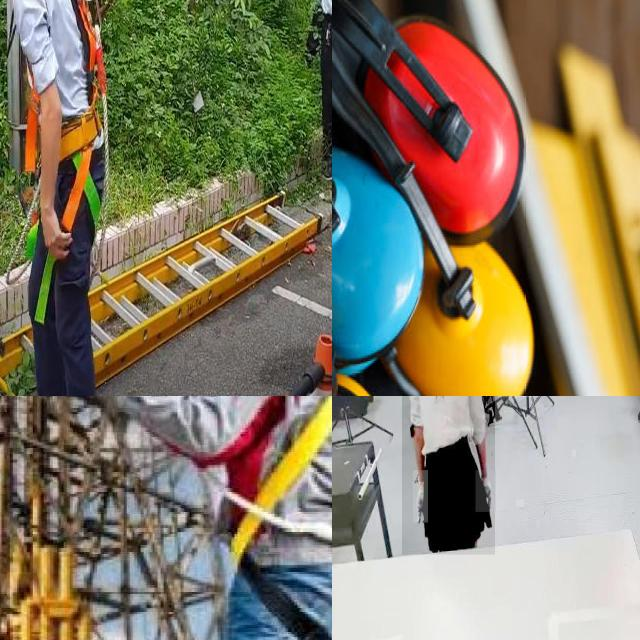Ear-protection: (332, 0, 528, 242), (401, 228, 535, 396), (332, 145, 425, 375)
Harness: (20, 0, 108, 334), (215, 396, 332, 640)
hand_glove: (475, 470, 497, 513), (413, 470, 429, 524)
person: (402, 396, 495, 555)
